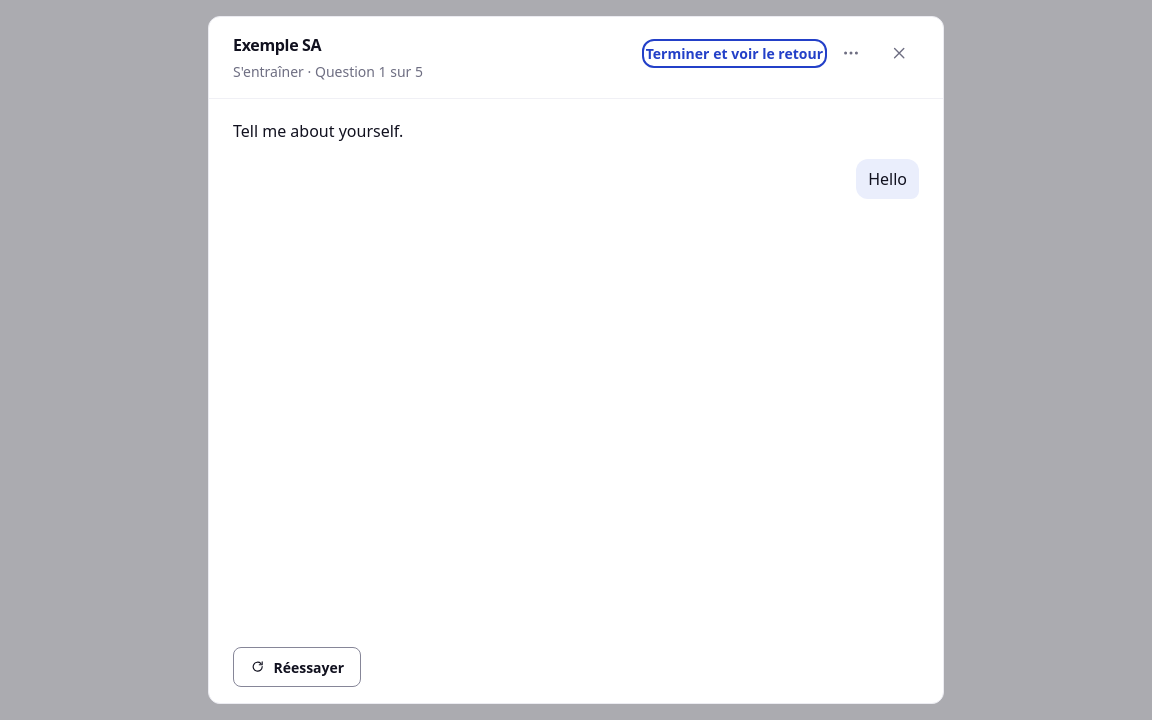
Test case: InterviewPractice › dit l'erreur de l'IA et propose « Réessayer » quand le recruteur n'a pas répondu
Click the button with test id "practice-retry" at point(297, 667), box x1=233 y1=647 x2=361 y2=687
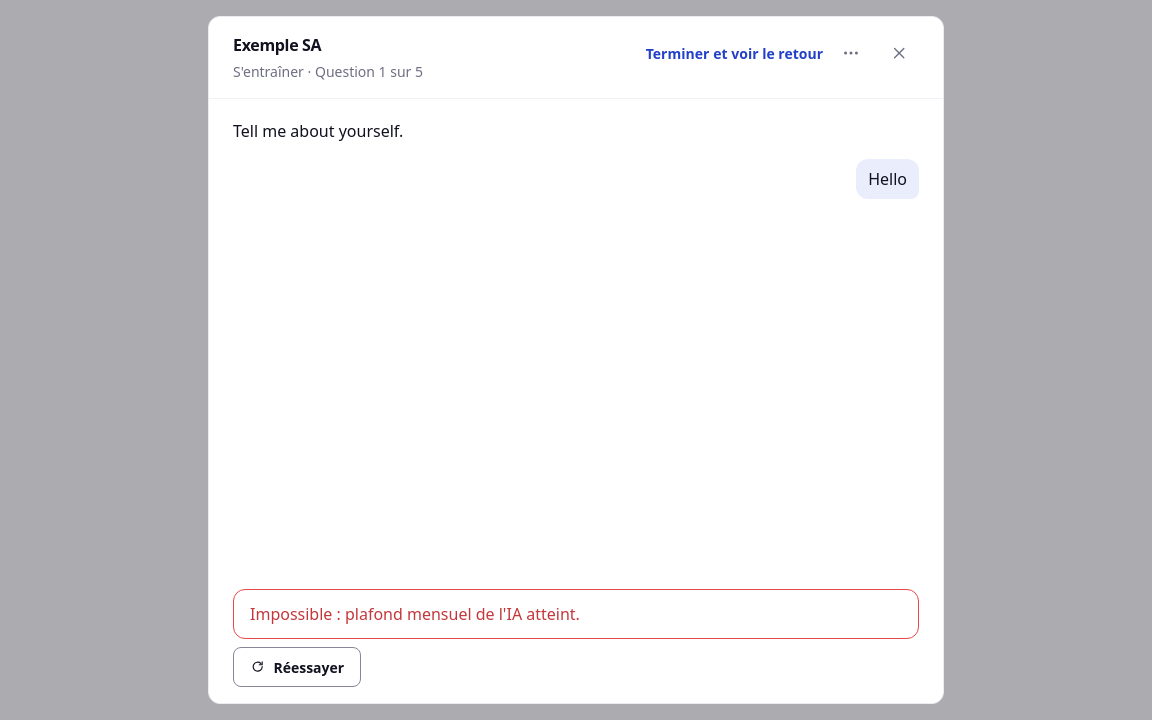
Now the message "Impossible : plafond mensuel de l'IA atteint." is shown, box x1=233 y1=589 x2=919 y2=639
